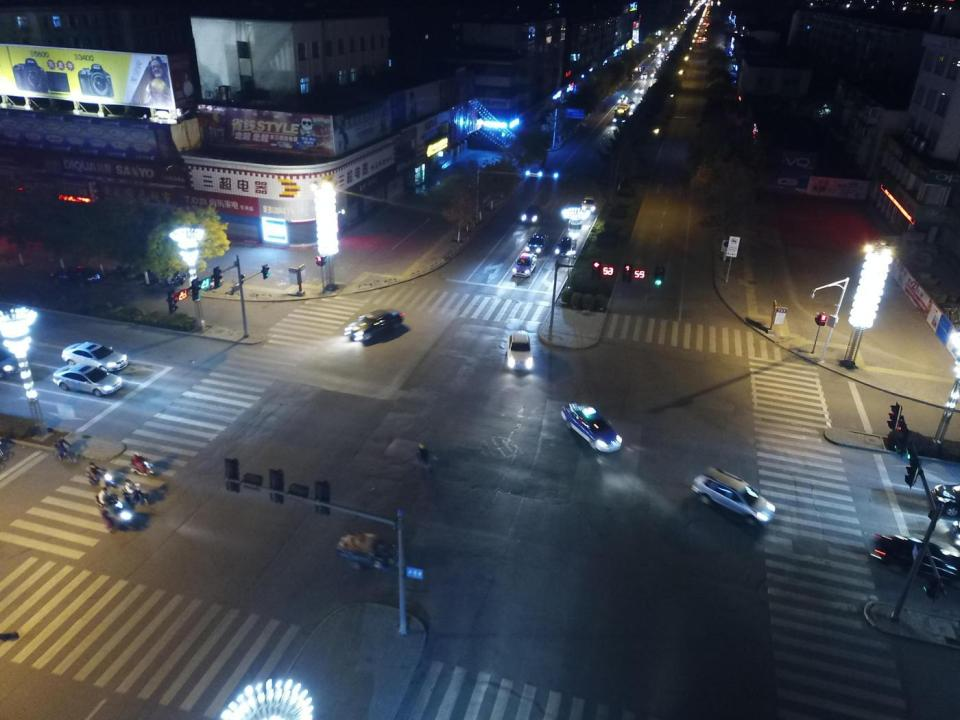bus: (612, 103, 629, 124)
car: (692, 466, 775, 524), (869, 534, 960, 580), (560, 401, 622, 454), (52, 362, 124, 396), (344, 309, 408, 344), (61, 343, 128, 374), (505, 330, 533, 371), (50, 266, 102, 288), (512, 253, 539, 278), (525, 233, 548, 254), (554, 236, 576, 256), (520, 204, 540, 223), (580, 196, 596, 214), (634, 86, 644, 94), (618, 95, 627, 103), (628, 102, 636, 109), (640, 72, 647, 79), (658, 58, 665, 64), (651, 72, 658, 77), (636, 66, 641, 72), (657, 53, 664, 57), (669, 40, 675, 44), (671, 36, 677, 40), (706, 22, 710, 28), (659, 48, 664, 52), (664, 54, 668, 59), (698, 39, 702, 43), (703, 37, 707, 41), (702, 22, 706, 26), (652, 51, 656, 55), (702, 32, 706, 36), (668, 47, 673, 50), (702, 28, 706, 31), (698, 36, 702, 38)
